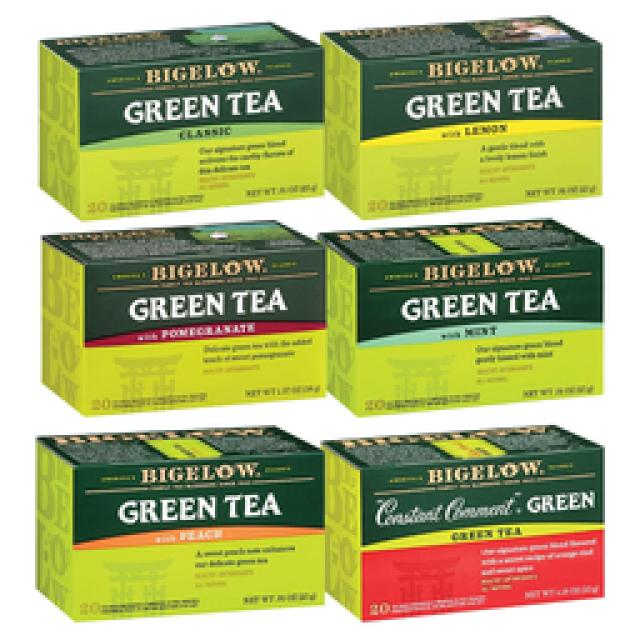tea-bags: (40, 18, 600, 218), (38, 425, 602, 618), (42, 220, 600, 415)
